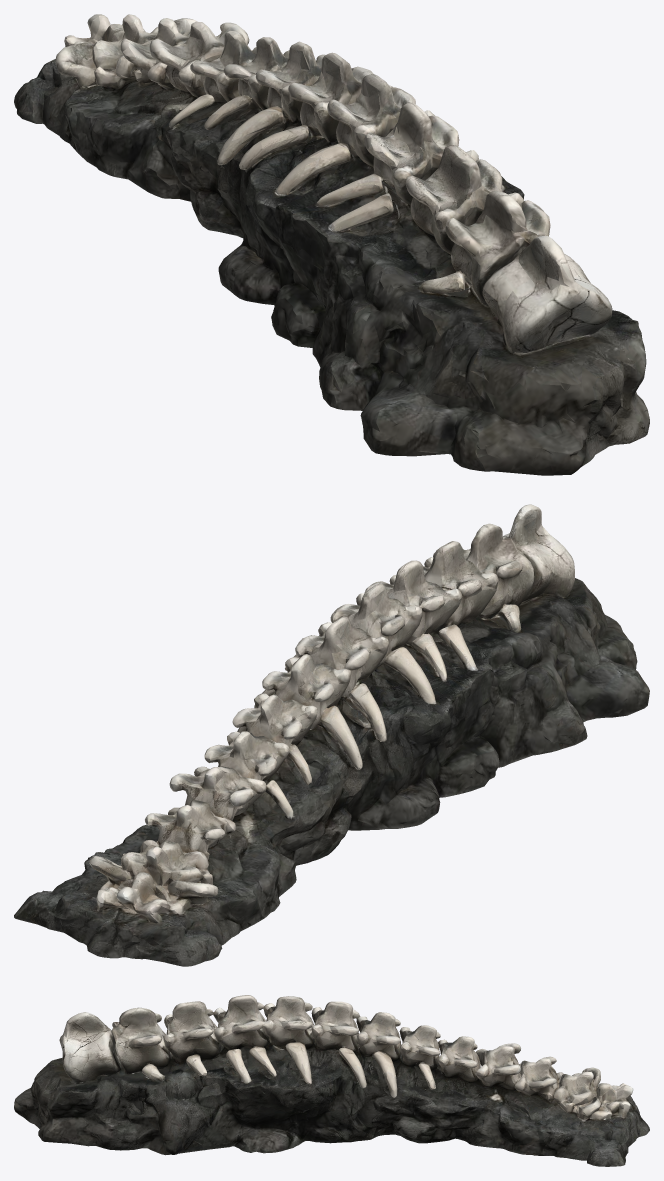
File: sv_spine.glb
3 views of the same model, one above another, from view 1: azimuth 30°, elevation 25°; view 2: azimuth 150°, elevation 25°; view 3: azimuth 270°, elevation 25° (orthographic). The views are drawn at different scales.
Size of the model in its own units: 0.6306 by 0.4244 by 1.9.
1 material, 1 textured.
